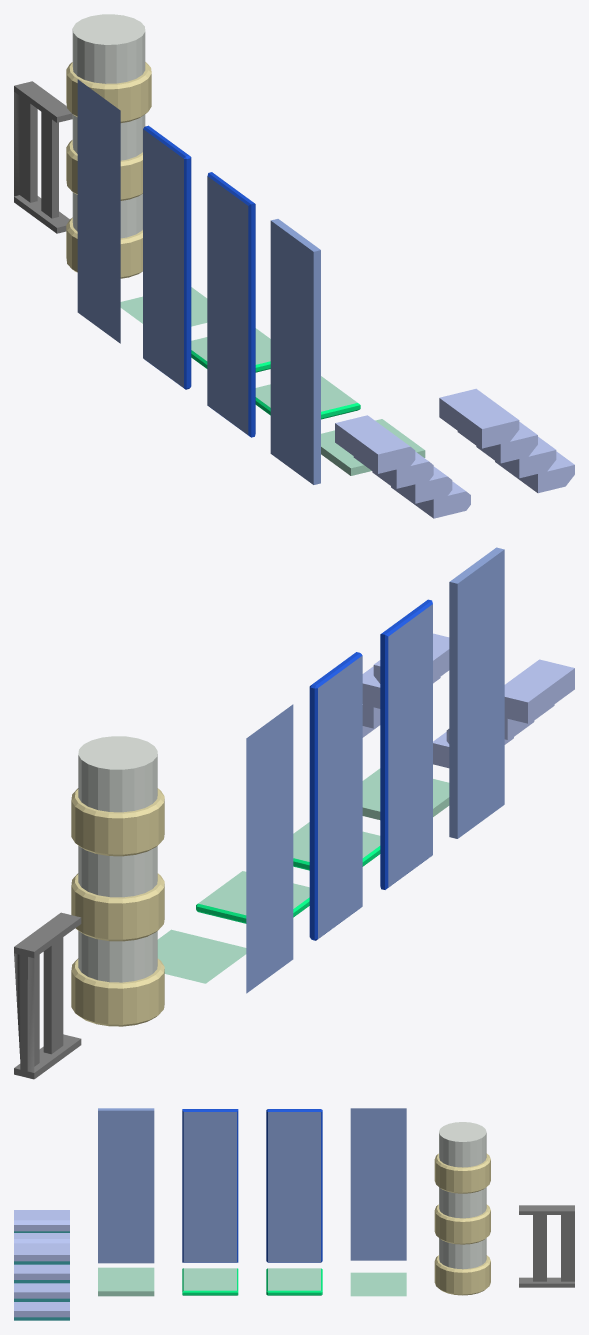
File: LevelAssets_SeamMarked.fbx
3 views of the same model, one above another, from view 1: azimuth 30°, elevation 25°; view 2: azimuth 150°, elevation 25°; view 3: azimuth 270°, elevation 25° (orthographic). The views are drawn at different scales.
Parts seen in each view (by area): view 1: Repeatable_Wall_Strip_Thick_V1, Repeatable_Pillar, Repeatable_Wall_Strip_Thick_V3, Repeatable_Wall_Strip_Thick_V2, Repeatable_Wall_Strip_Thin, Repeatable_Stairs_V1, Repeatable_Stairs_V2, Repeatable_Railings, Repeatable_Floor_Tile_Thick_V2, Repeatable_Floor_Tile_Thick_V1, Repeatable_Floor_Tile_Thick_V3, Repeatable_Floor_Tile_Thin; view 2: Repeatable_Pillar, Repeatable_Wall_Strip_Thick_V1, Repeatable_Wall_Strip_Thick_V2, Repeatable_Wall_Strip_Thick_V3, Repeatable_Wall_Strip_Thin, Repeatable_Railings, Repeatable_Stairs_V2, Repeatable_Floor_Tile_Thin, Repeatable_Floor_Tile_Thick_V3, Repeatable_Stairs_V1, Repeatable_Floor_Tile_Thick_V1, Repeatable_Floor_Tile_Thick_V2; view 3: Repeatable_Pillar, Repeatable_Wall_Strip_Thick_V1, Repeatable_Wall_Strip_Thick_V3, Repeatable_Wall_Strip_Thick_V2, Repeatable_Wall_Strip_Thin, Repeatable_Stairs_V1, Repeatable_Railings, Repeatable_Stairs_V2, Repeatable_Floor_Tile_Thick_V1, Repeatable_Floor_Tile_Thick_V2, Repeatable_Floor_Tile_Thick_V3, Repeatable_Floor_Tile_Thin.
Part boxes in pixels (box(x1,y1,x2,y2)): Repeatable_Wall_Strip_Thick_V1: box(270, 219, 320, 484); Repeatable_Pillar: box(66, 14, 151, 278); Repeatable_Wall_Strip_Thick_V3: box(207, 172, 255, 437); Repeatable_Wall_Strip_Thick_V2: box(143, 125, 191, 389); Repeatable_Wall_Strip_Thin: box(77, 79, 120, 343); Repeatable_Stairs_V1: box(439, 388, 574, 493); Repeatable_Stairs_V2: box(335, 415, 470, 518); Repeatable_Railings: box(14, 81, 72, 233); Repeatable_Floor_Tile_Thick_V2: box(255, 376, 360, 419); Repeatable_Floor_Tile_Thick_V1: box(321, 419, 425, 475); Repeatable_Floor_Tile_Thick_V3: box(191, 328, 270, 372); Repeatable_Floor_Tile_Thin: box(120, 287, 207, 326); Repeatable_Pillar: box(71, 736, 164, 1026); Repeatable_Wall_Strip_Thick_V1: box(449, 547, 504, 838); Repeatable_Wall_Strip_Thick_V2: box(309, 652, 362, 940); Repeatable_Wall_Strip_Thick_V3: box(380, 599, 432, 889); Repeatable_Wall_Strip_Thin: box(246, 704, 293, 993); Repeatable_Railings: box(14, 912, 81, 1079); Repeatable_Stairs_V2: box(433, 659, 574, 768); Repeatable_Floor_Tile_Thin: box(157, 929, 246, 983); Repeatable_Floor_Tile_Thick_V3: box(196, 871, 309, 923); Repeatable_Stairs_V1: box(362, 633, 449, 737); Repeatable_Floor_Tile_Thick_V1: box(362, 768, 449, 819); Repeatable_Floor_Tile_Thick_V2: box(293, 822, 380, 870); Repeatable_Pillar: box(434, 1122, 490, 1295); Repeatable_Wall_Strip_Thick_V1: box(98, 1108, 154, 1263); Repeatable_Wall_Strip_Thick_V3: box(182, 1109, 238, 1262); Repeatable_Wall_Strip_Thick_V2: box(266, 1109, 322, 1262); Repeatable_Wall_Strip_Thin: box(350, 1108, 406, 1260); Repeatable_Stairs_V1: box(14, 1243, 69, 1320); Repeatable_Railings: box(519, 1205, 574, 1287); Repeatable_Stairs_V2: box(14, 1210, 69, 1243); Repeatable_Floor_Tile_Thick_V1: box(98, 1267, 154, 1296); Repeatable_Floor_Tile_Thick_V2: box(182, 1268, 238, 1295); Repeatable_Floor_Tile_Thick_V3: box(266, 1268, 322, 1295); Repeatable_Floor_Tile_Thin: box(350, 1272, 406, 1296).
Size of the model in its own units: 265 by 300 by 1000.
